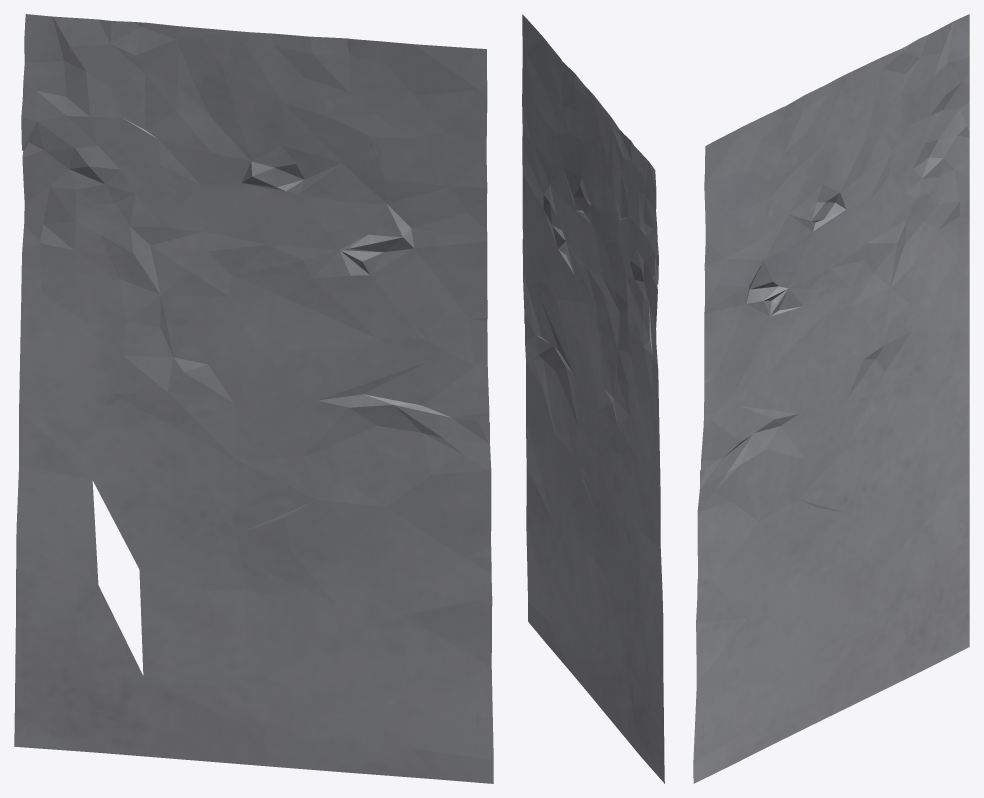
3 renders of one model, left to right at view 1: azimuth 30°, elevation 25°; view 2: azimuth 150°, elevation 25°; view 3: azimuth 270°, elevation 25°, orthographic. The views are drawn at different scales.
Bounding box in the file's own units: 1.54 × 3.35 × 1.32.
Materials: 2 (2 with a texture image).
